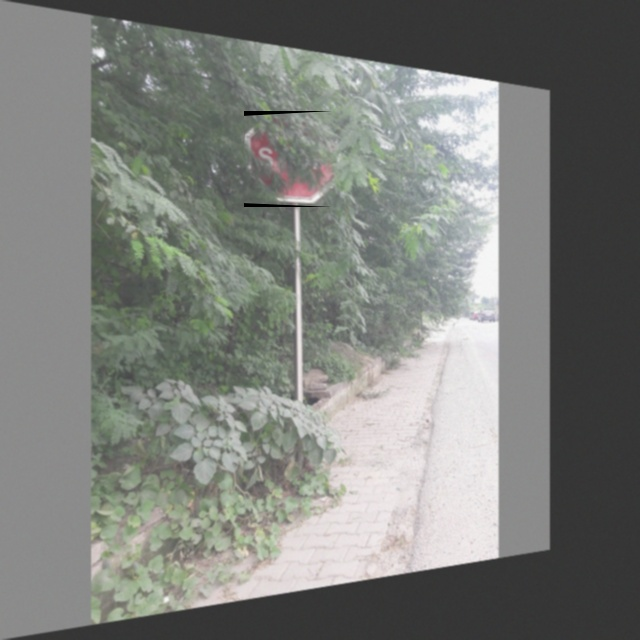Stop: (244, 111, 333, 207)
